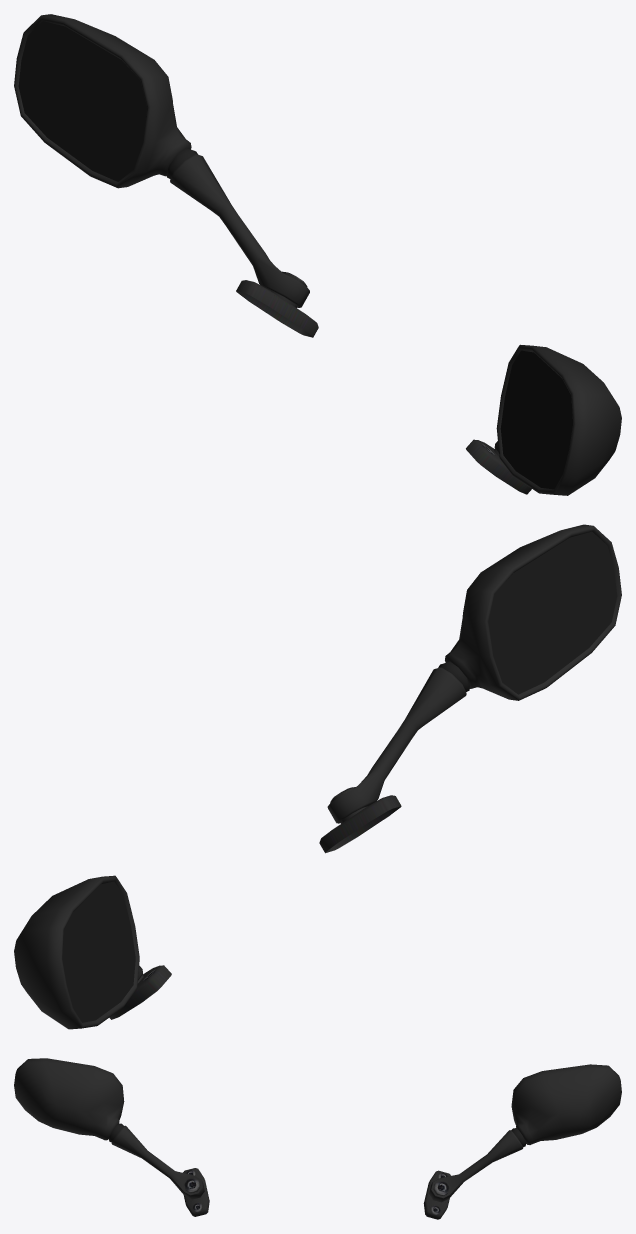
The model's file is mirrors_stock.obj.
3 renders of one model, top to bottom at view 1: azimuth 30°, elevation 25°; view 2: azimuth 150°, elevation 25°; view 3: azimuth 270°, elevation 25°, orthographic. The views are drawn at different scales.
Visible parts, largest first — view 1: polySurface1587; view 2: polySurface1587; view 3: polySurface1587.
Boxes of the visible parts, x1,y1,x2,y2 form: polySurface1587: (14,14,621,495); polySurface1587: (14,524,621,1029); polySurface1587: (14,1058,621,1219).
Bounding box in the file's own units: 4.17 × 7.38 × 30.09.
1 material, 1 textured.
